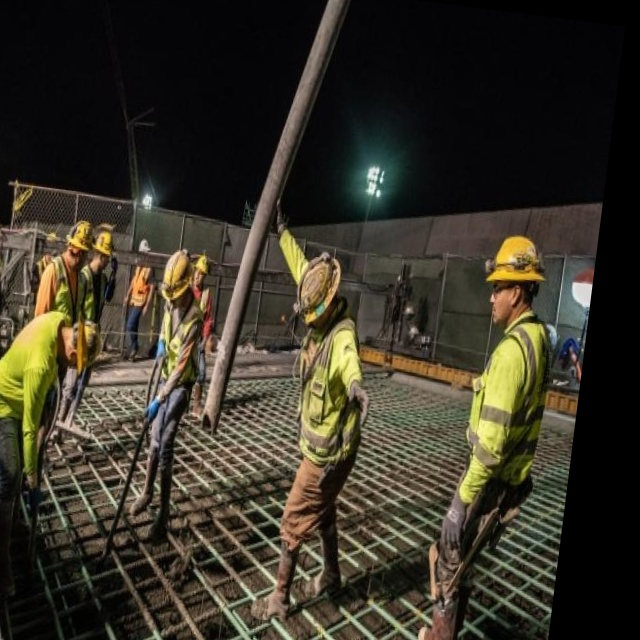Con_Casco: (483, 230, 545, 313), (157, 245, 195, 310)
Con_Chaleco: (457, 318, 557, 494), (286, 317, 372, 465)
